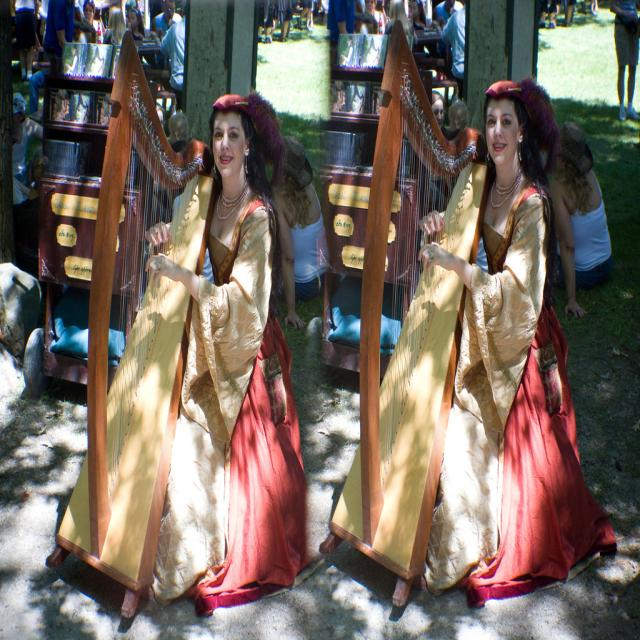harp: (44, 31, 218, 627), (318, 18, 491, 608)
